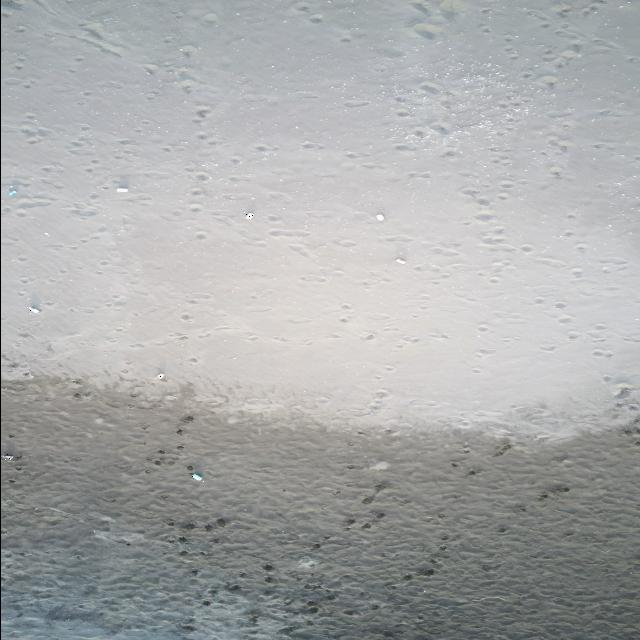Garbage: (116, 176, 128, 192), (2, 453, 16, 460), (8, 184, 16, 196), (192, 472, 203, 480), (27, 306, 40, 312), (396, 256, 406, 263), (116, 186, 127, 192), (375, 212, 383, 220), (244, 211, 252, 219), (157, 372, 163, 379)
